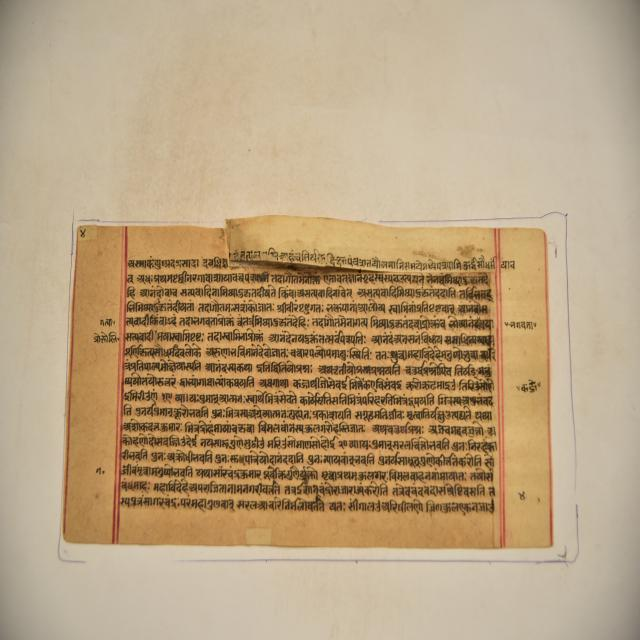text_paragraph: (58, 227, 548, 545)
